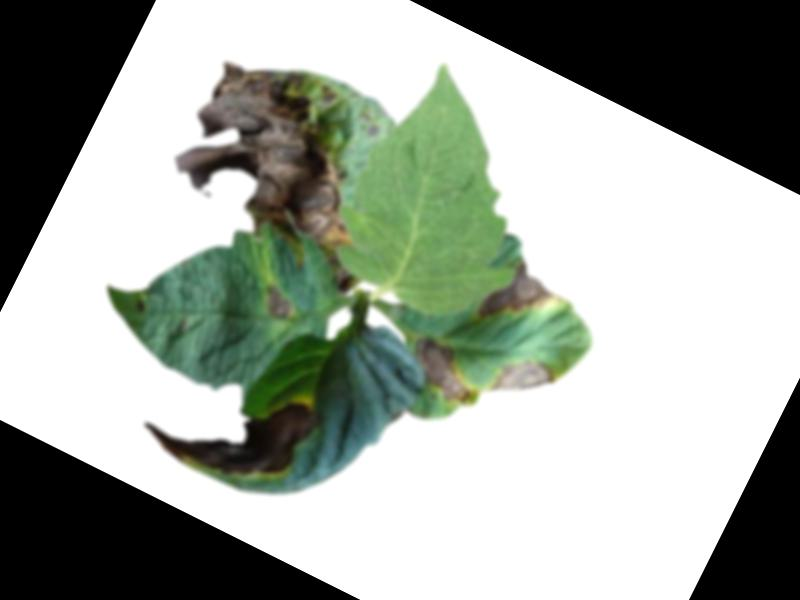Early_blight: (159, 36, 411, 276), (136, 340, 330, 510), (474, 252, 565, 344), (399, 328, 489, 409), (489, 344, 561, 416), (257, 283, 301, 324), (330, 264, 361, 298), (134, 296, 151, 314)
healthy: (314, 48, 588, 343)
